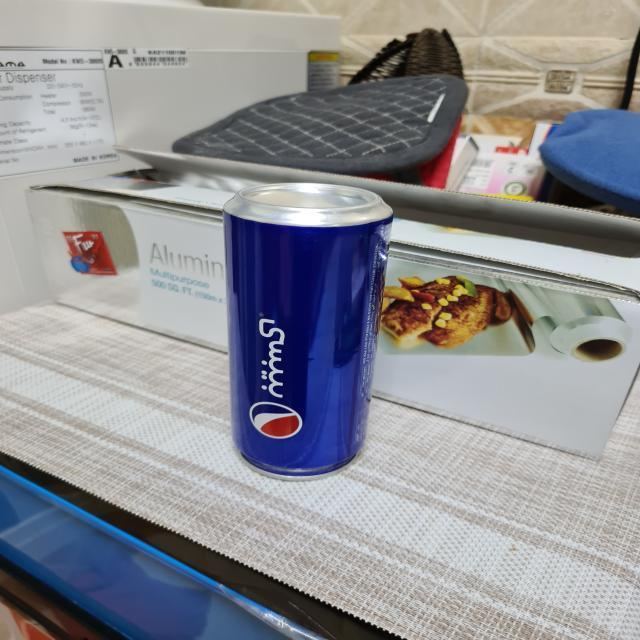Kaleng: (202, 157, 398, 487)
